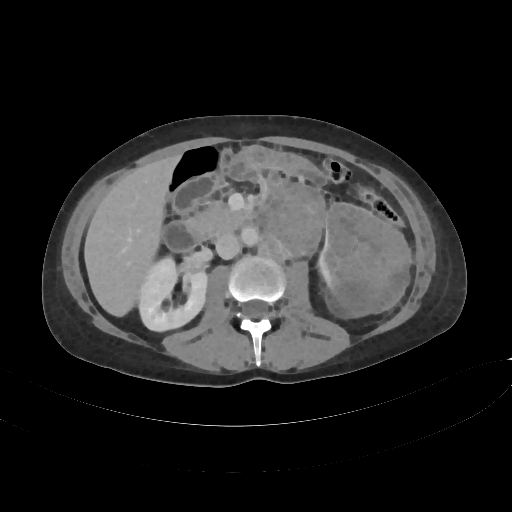Lesion: (324, 204, 412, 310)
